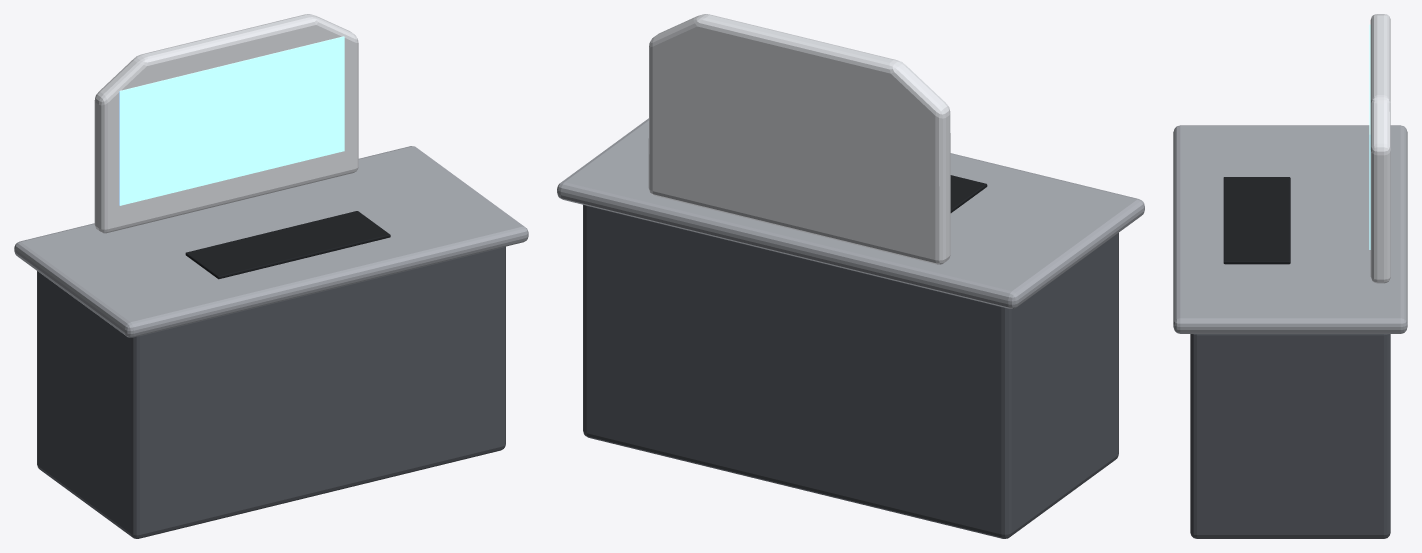
The model's file is desk_terminal.glb.
3 renders of one model, left to right at view 1: azimuth 30°, elevation 25°; view 2: azimuth 150°, elevation 25°; view 3: azimuth 270°, elevation 25°, orthographic. The views are drawn at different scales.
Visible parts, largest first — view 1: GD_desk_terminal__m1, GD_desk_terminal__m0, GD_desk_terminal__m3, GD_desk_terminal__m2, GD_desk_terminal__m4; view 2: GD_desk_terminal__m1, GD_desk_terminal__m2, GD_desk_terminal__m0, GD_desk_terminal__m4; view 3: GD_desk_terminal__m1, GD_desk_terminal__m0, GD_desk_terminal__m4, GD_desk_terminal__m2, GD_desk_terminal__m3.
Part boxes in pixels (x1,y1,x2,y2): GD_desk_terminal__m1: (37,246,505,538); GD_desk_terminal__m0: (14,146,528,337); GD_desk_terminal__m3: (119,36,344,205); GD_desk_terminal__m2: (94,14,358,233); GD_desk_terminal__m4: (185,211,390,279); GD_desk_terminal__m1: (583,205,1118,538); GD_desk_terminal__m2: (648,14,950,264); GD_desk_terminal__m0: (557,118,1144,308); GD_desk_terminal__m4: (950,175,987,212); GD_desk_terminal__m1: (1190,334,1390,538); GD_desk_terminal__m0: (1173,125,1407,333); GD_desk_terminal__m4: (1223,177,1290,264); GD_desk_terminal__m2: (1370,14,1390,283); GD_desk_terminal__m3: (1369,24,1370,249).
Bounding box in the file's own units: 1.4 × 1.3 × 0.7.
